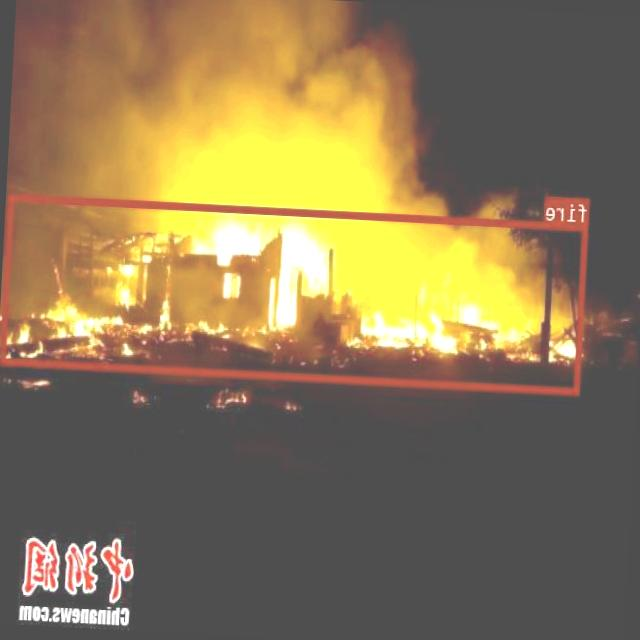fire: (2, 194, 589, 394)
